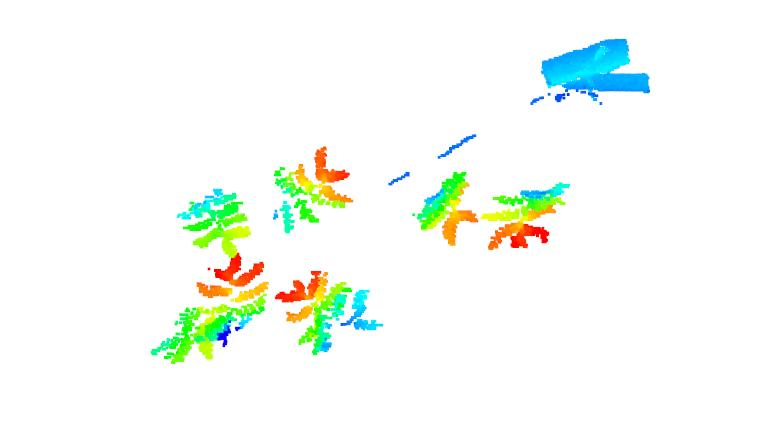chickpea: (278, 273, 382, 353), (272, 144, 348, 231), (197, 253, 268, 343), (484, 180, 570, 252), (416, 170, 476, 246), (179, 187, 248, 253), (151, 308, 227, 363)
